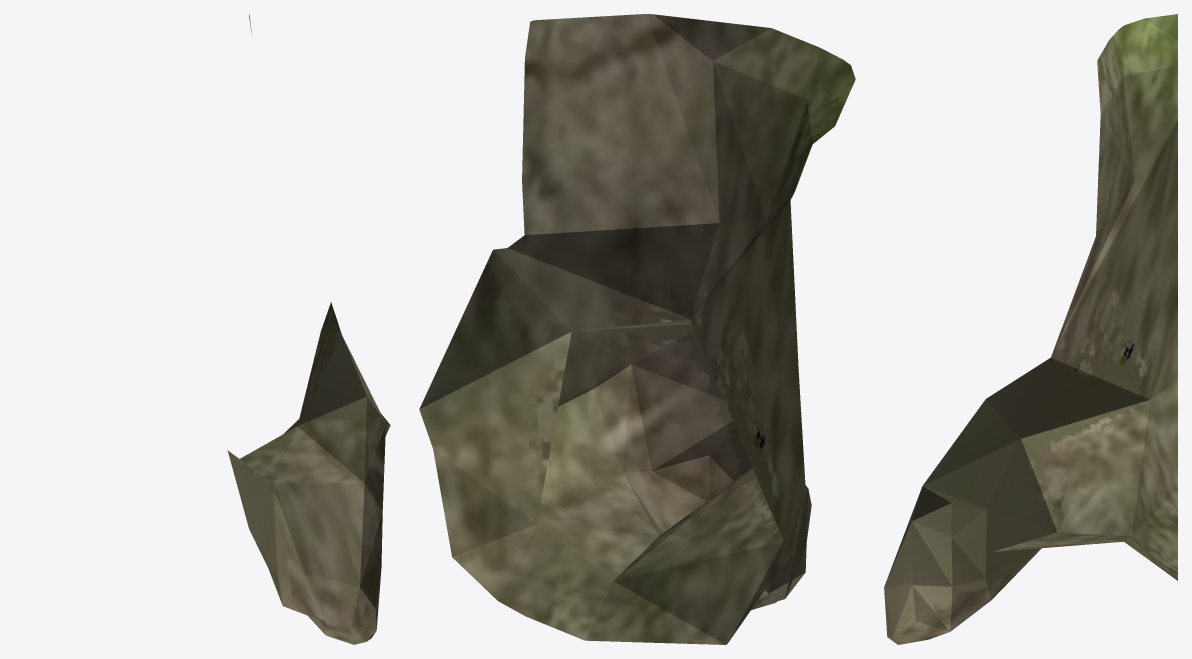
3 renders of one model, left to right at view 1: azimuth 30°, elevation 25°; view 2: azimuth 150°, elevation 25°; view 3: azimuth 270°, elevation 25°, orthographic. The views are drawn at different scales.
Bounding box in the file's own units: 1.57 × 2.47 × 1.25.
2 materials, 2 textured.
